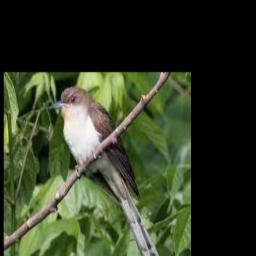Cuckoo: (50, 86, 162, 256)
